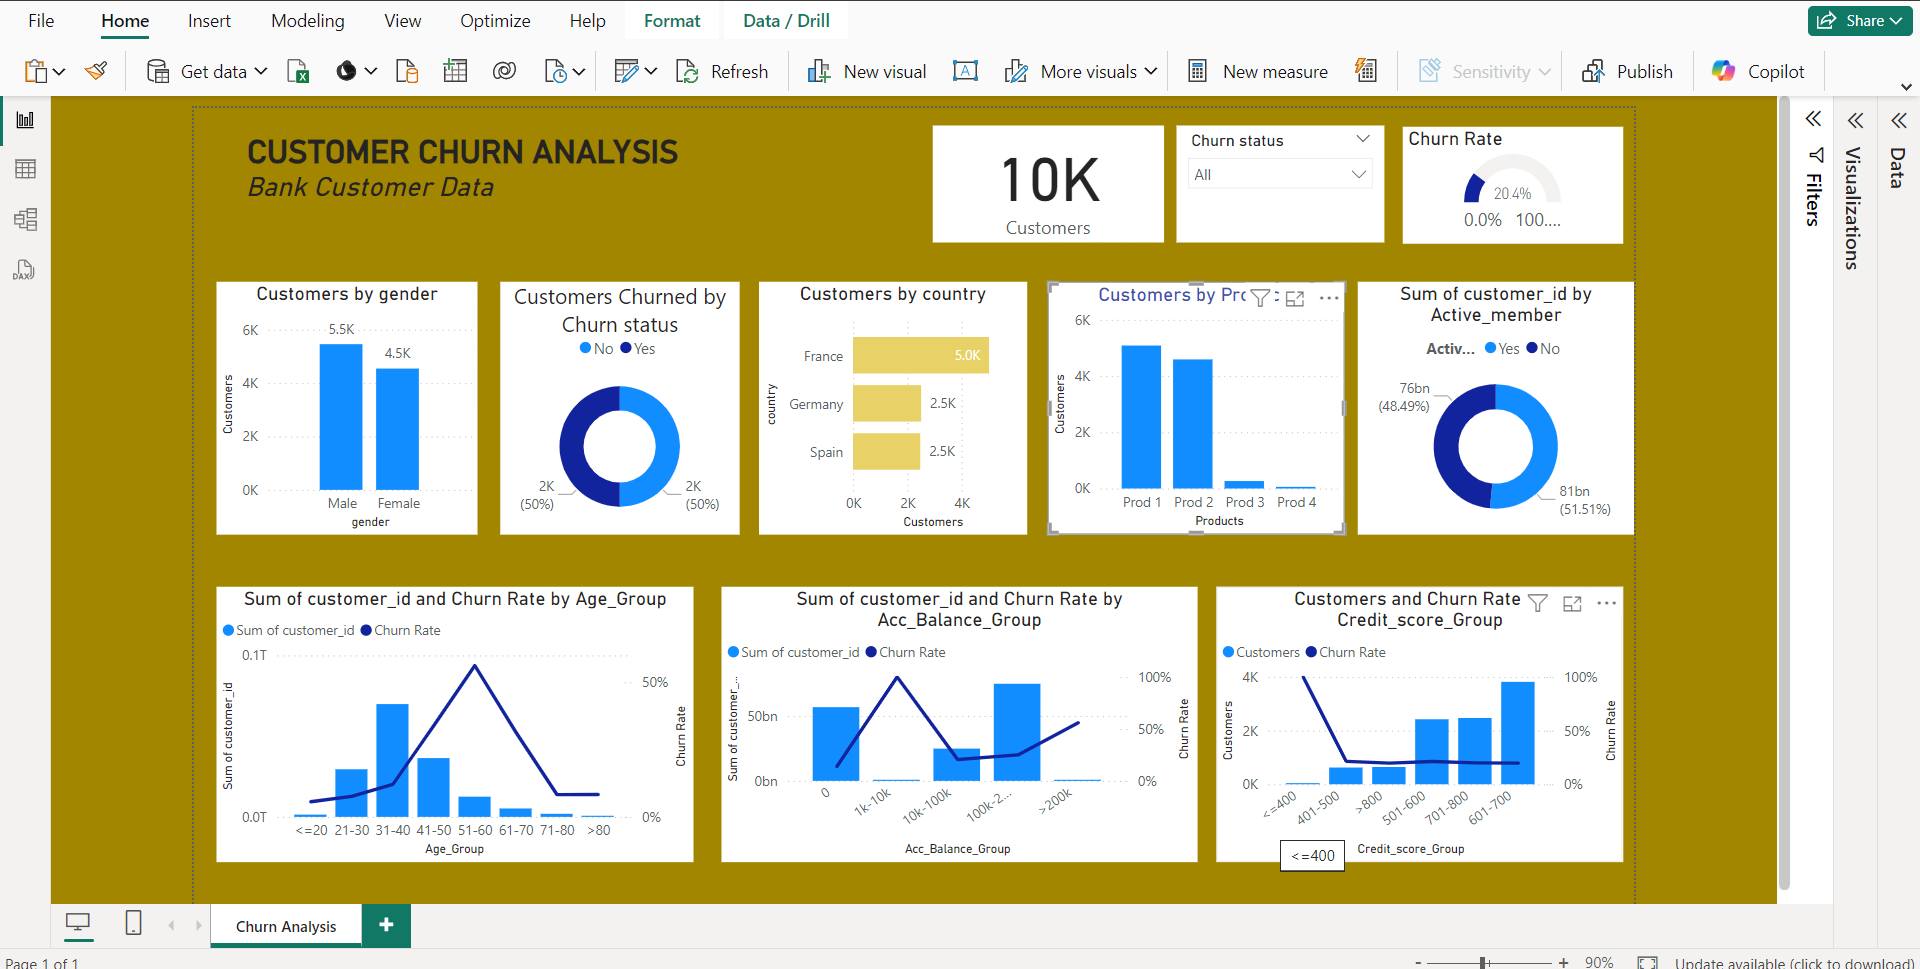

Layout of this report page (visuals, bound fields, positions):
{"tool":"powerbi","page":{"name":"Churn Analysis","canvas":[1280,720],"ordinal":0},"visuals":[{"type":"card","fields":{"Values":["customer_data.Customers"]},"box":[656.7,15.9,205.4,103.9],"z":0},{"type":"donutChart","fields":{"Y":["customer_data.Customers Churned"],"Category":["customer_data.Churn status"]},"box":[272.7,154.1,212.8,225],"z":1000},{"type":"columnChart","fields":{"Y":["customer_data.Customers"],"Category":["customer_data.gender"]},"box":[19.6,154.1,232.3,225],"z":2000},{"type":"barChart","fields":{"Y":["customer_data.Customers"],"Category":["customer_data.country"]},"box":[502.6,154.1,238.5,225],"z":3000},{"type":"columnChart","fields":{"Y":["customer_data.Customers"],"Category":["customer_data.Products"]},"box":[759.4,154.1,264.1,225],"z":4000},{"type":"donutChart","fields":{"Y":["Sum(customer_data.customer_id)"],"Category":["customer_data.Active_member"]},"box":[1034.5,154.1,245.8,225],"z":5000},{"type":"lineClusteredColumnComboChart","fields":{"Category":["Age_Group.Age_Group"],"Y":["Sum(customer_data.customer_id)"],"Y2":["customer_data.Churn Rate"]},"box":[19.6,425.5,424.3,244.6],"z":6000},{"type":"lineClusteredColumnComboChart","fields":{"Y":["Sum(customer_data.customer_id)"],"Category":["Acc_Balance_Group.Acc_Balance_Group"],"Y2":["customer_data.Churn Rate"]},"box":[468.3,425.5,423.1,244.6],"z":7000},{"type":"lineClusteredColumnComboChart","fields":{"Y":["customer_data.Customers"],"Category":["Credit_Score_Group.Credit_score_Group"],"Y2":["customer_data.Churn Rate"]},"box":[908.6,425.5,362,244.6],"z":8000},{"type":"gauge","fields":{"Y":["customer_data.Churn Rate"]},"box":[1074.9,17.1,195.7,103.9],"z":8001},{"type":"textbox","box":[29.3,15.9,568.6,114.9],"z":8002},{"type":"slicer","fields":{"Values":["customer_data.Churn status"]},"box":[873.1,15.9,184.6,103.9],"z":8003}]}

Visuals, with their boxes on the page's 1280x720 design canvas (x1, y1, x2, y2). These are canvas units, not pixel positions in the 1920x969 screenshot, which may show the page scaled, cropped or inside an application window:
card - customer_data.Customers: select_region(657, 16, 862, 120)
donutChart - customer_data.Customers Churned x customer_data.Churn status: select_region(273, 154, 486, 379)
columnChart - customer_data.Customers x customer_data.gender: select_region(20, 154, 252, 379)
barChart - customer_data.Customers x customer_data.country: select_region(503, 154, 741, 379)
columnChart - customer_data.Customers x customer_data.Products: select_region(759, 154, 1024, 379)
donutChart - Sum(customer_data.customer_id) x customer_data.Active_member: select_region(1034, 154, 1280, 379)
lineClusteredColumnComboChart - Age_Group.Age_Group x Sum(customer_data.customer_id): select_region(20, 426, 444, 670)
lineClusteredColumnComboChart - Sum(customer_data.customer_id) x Acc_Balance_Group.Acc_Balance_Group: select_region(468, 426, 891, 670)
lineClusteredColumnComboChart - customer_data.Customers x Credit_Score_Group.Credit_score_Group: select_region(909, 426, 1271, 670)
gauge - customer_data.Churn Rate: select_region(1075, 17, 1271, 121)
textbox: select_region(29, 16, 598, 131)
slicer - customer_data.Churn status: select_region(873, 16, 1058, 120)
